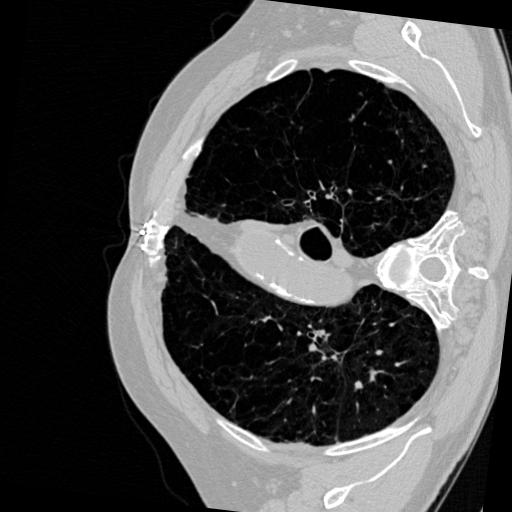nodule: (352, 378, 365, 391)
